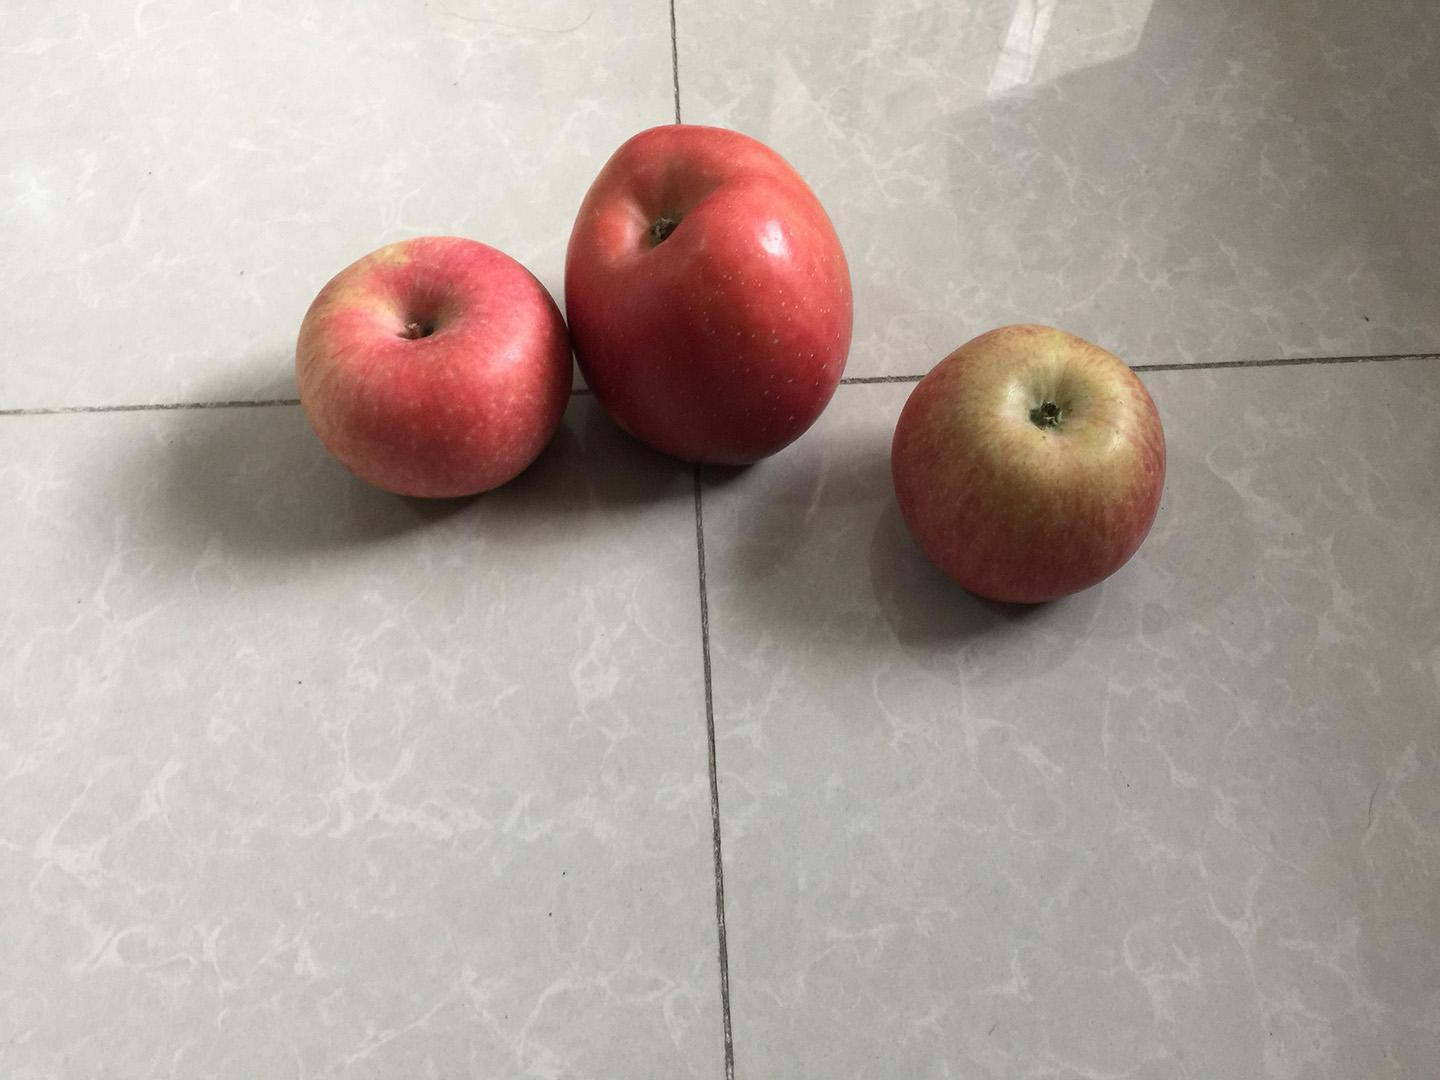apple: (559, 113, 861, 473), (881, 317, 1177, 615), (287, 231, 573, 509)
